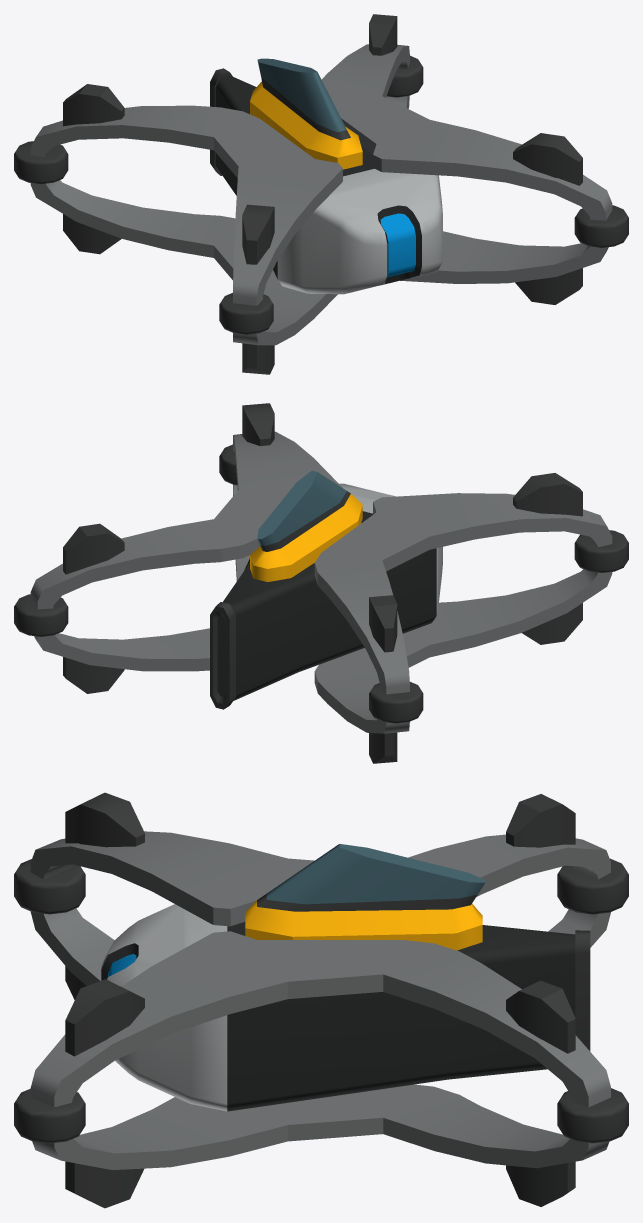
File: Drone_001.fbx
The picture shows the model from 3 angles, top to bottom: view 1: azimuth 30°, elevation 25°; view 2: azimuth 150°, elevation 25°; view 3: azimuth 270°, elevation 25°; orthographic projection. The views are drawn at different scales.
Parts seen in each view (by area): view 1: Drone_001; view 2: Drone_001; view 3: Drone_001.
Part boxes in pixels (x1,y1,x2,y2): Drone_001: [14, 14, 628, 374]; Drone_001: [14, 403, 628, 763]; Drone_001: [14, 792, 628, 1208].
Bounding box in the file's own units: 42.34 × 42.4 × 19.7.
